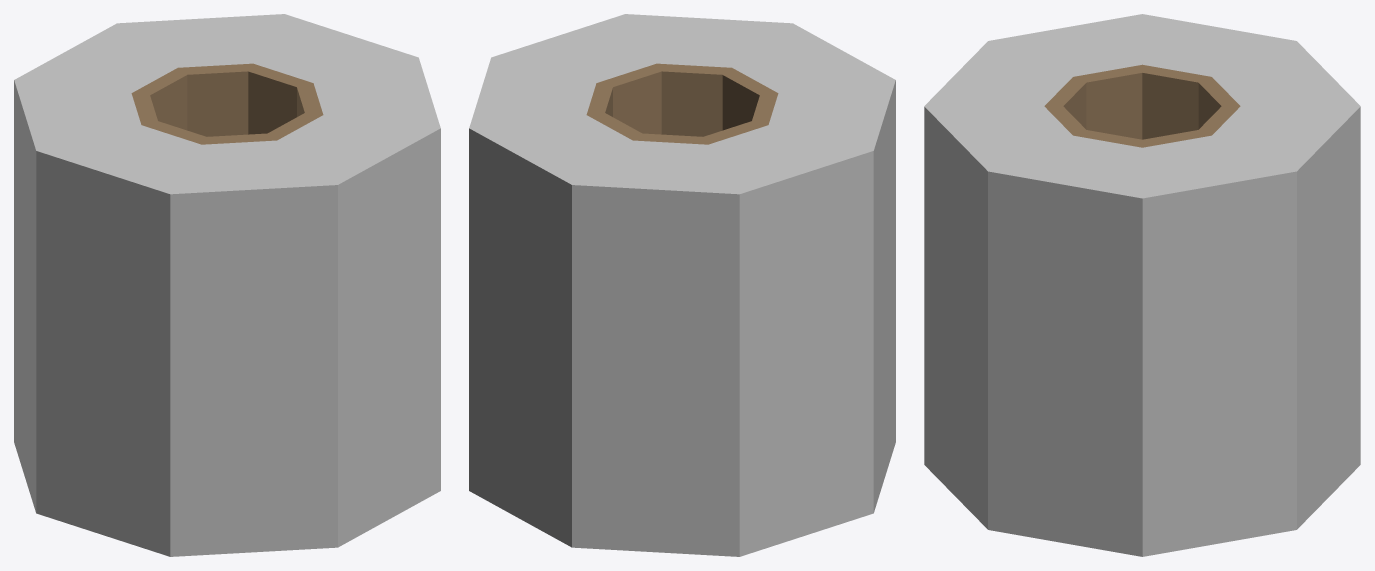
Rendered from SM_Item_ToiletRoll_02.fbx.
3 renders of one model, left to right at view 1: azimuth 30°, elevation 25°; view 2: azimuth 150°, elevation 25°; view 3: azimuth 270°, elevation 25°, orthographic.
Visible parts, largest first — view 1: SM_Item_ToiletRoll_02; view 2: SM_Item_ToiletRoll_02; view 3: SM_Item_ToiletRoll_02.
Part boxes in pixels (x1=…): SM_Item_ToiletRoll_02: x1=14, y1=14, x2=440, y2=556; SM_Item_ToiletRoll_02: x1=469, y1=14, x2=895, y2=556; SM_Item_ToiletRoll_02: x1=924, y1=14, x2=1360, y2=556.
Size of the model in its own units: 15.6 by 14.13 by 15.6.
